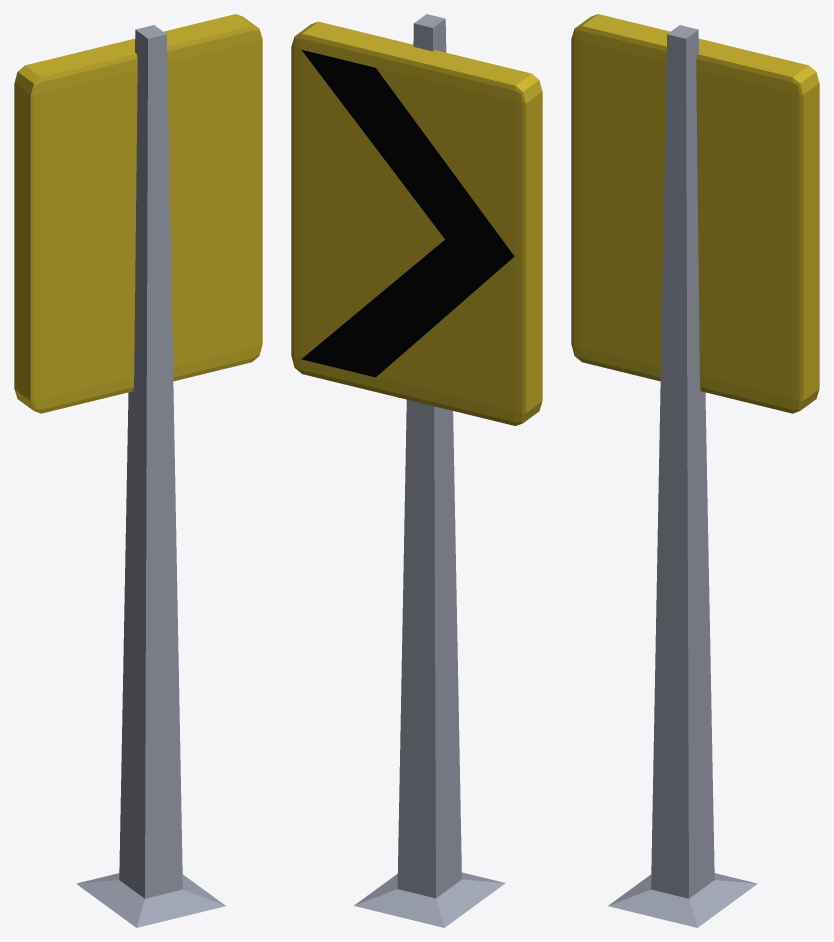
The model's file is Direction_Sign.glb.
The picture shows the model from 3 angles, left to right: view 1: azimuth 30°, elevation 25°; view 2: azimuth 150°, elevation 25°; view 3: azimuth 330°, elevation 25°; orthographic projection.
Parts seen in each view (by area): view 1: Cube-Col, Sign-Col; view 2: Cube-Col, Sign-Col; view 3: Cube-Col, Sign-Col.
Boxes of the visible parts, box(x1,y1,x2,y2) form: Cube-Col: box(14, 14, 262, 413); Sign-Col: box(76, 25, 225, 927); Cube-Col: box(291, 21, 542, 425); Sign-Col: box(354, 14, 505, 927); Cube-Col: box(571, 14, 819, 413); Sign-Col: box(608, 25, 757, 927).
Bounding box in the file's own units: 1.18 × 4.2 × 0.5349.
Materials: 3 (1 with a texture image).
